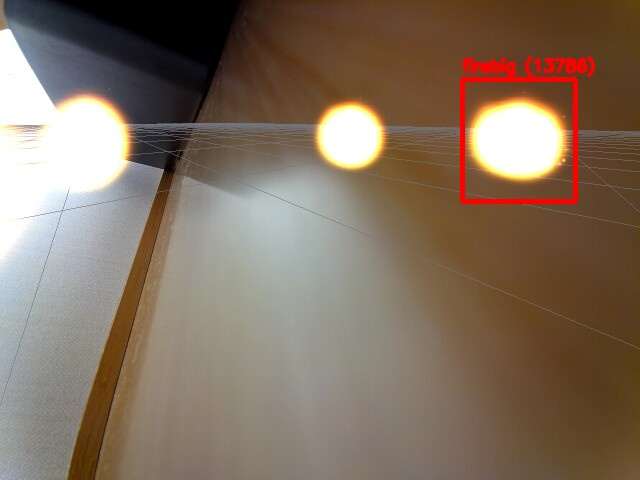firebig: (462, 79, 575, 201)
